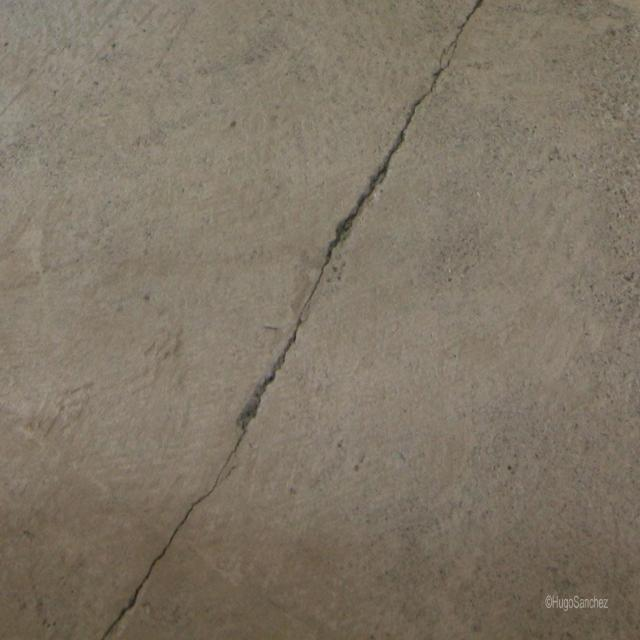diagonal crack: (100, 0, 482, 639)
